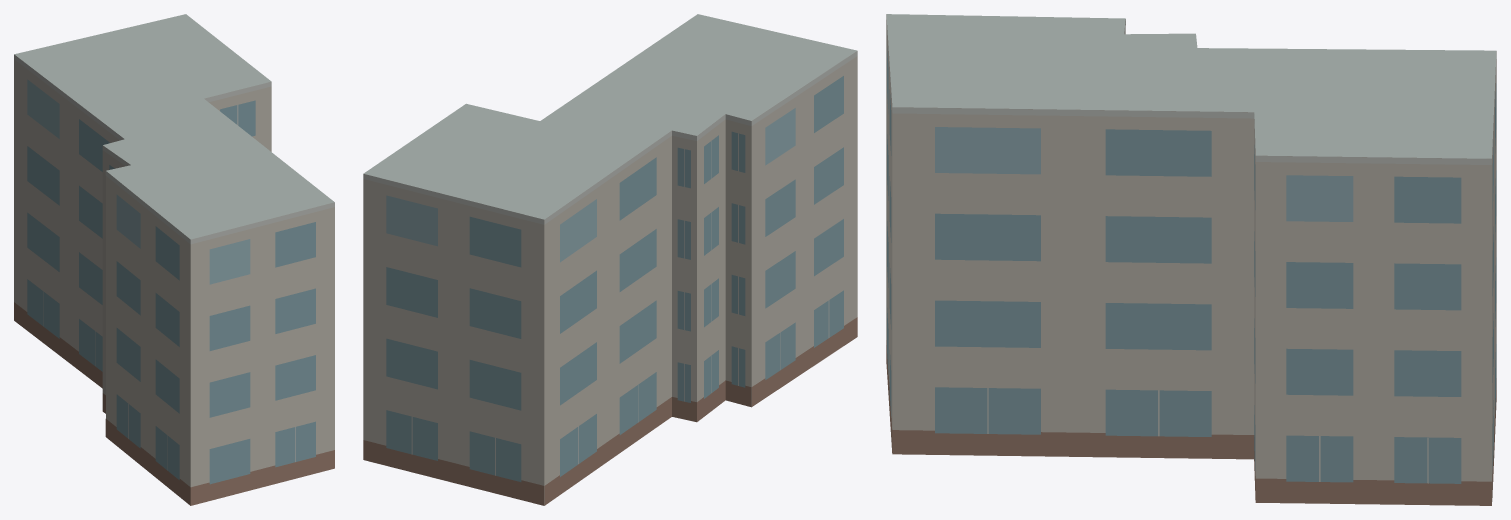
File: survey-upis-32625585.glb
The picture shows the model from 3 angles, left to right: view 1: azimuth 30°, elevation 25°; view 2: azimuth 150°, elevation 25°; view 3: azimuth 270°, elevation 25°; orthographic projection. The views are drawn at different scales.
Visible parts, largest first — view 1: survey-upis-32625585.tmp; view 2: survey-upis-32625585.tmp; view 3: survey-upis-32625585.tmp.
Part boxes in pixels (x1,y1,x2,y2): survey-upis-32625585.tmp: (14,14,334,505); survey-upis-32625585.tmp: (363,14,857,505); survey-upis-32625585.tmp: (886,14,1496,505).
Bounding box in the file's own units: 12 × 13.4 × 21.36.
